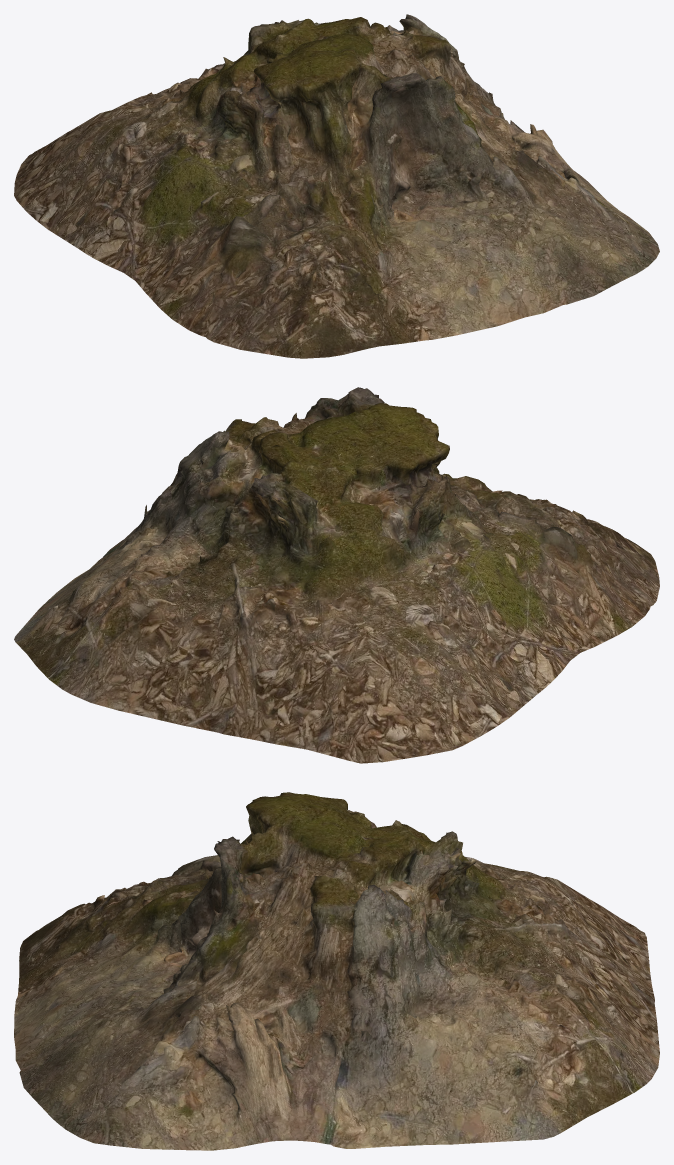
File: tree_stump_01.glb
3 views of the same model, one above another, from view 1: azimuth 30°, elevation 25°; view 2: azimuth 150°, elevation 25°; view 3: azimuth 270°, elevation 25° (orthographic). The views are drawn at different scales.
Visible parts, largest first — view 1: tree_stump_01; view 2: tree_stump_01; view 3: tree_stump_01.
Part boxes in pixels (x1,y1,x2,y2): tree_stump_01: (14,14,659,358); tree_stump_01: (14,387,659,763); tree_stump_01: (14,792,659,1150).
Bounding box in the file's own units: 1.43 × 0.5725 × 1.59.
1 material, 1 textured.
